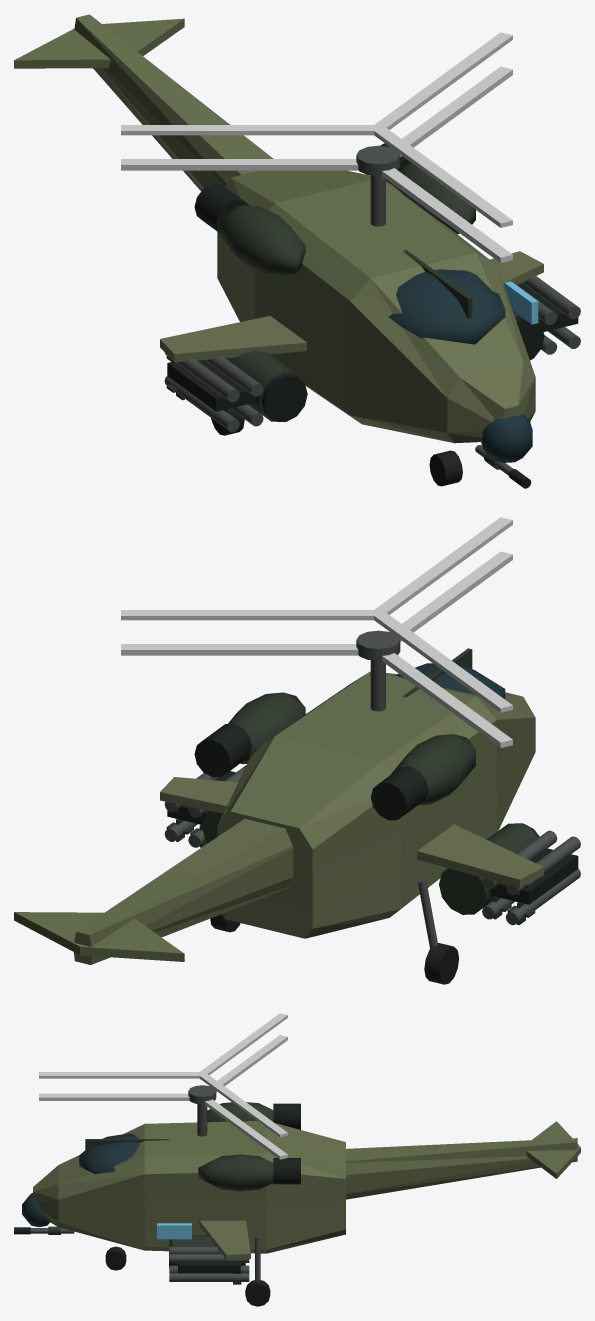
Rendered from heli-lod.glb.
3 views of the same model, one above another, from view 1: azimuth 30°, elevation 25°; view 2: azimuth 150°, elevation 25°; view 3: azimuth 270°, elevation 25° (orthographic). The views are drawn at different scales.
Parts seen in each view (by area): view 1: equipment (×6), marking; view 2: equipment (×6); view 3: equipment (×6), marking.
Boxes of the visible parts, <box> form: equipment (×6): <box>14,14,580,486</box>; marking: <box>504,281,538,324</box>; equipment (×6): <box>14,517,580,984</box>; equipment (×6): <box>14,1013,580,1306</box>; marking: <box>157,1223,191,1239</box>.
Bounding box in the file's own units: 4.14 × 3.13 × 8.16.
